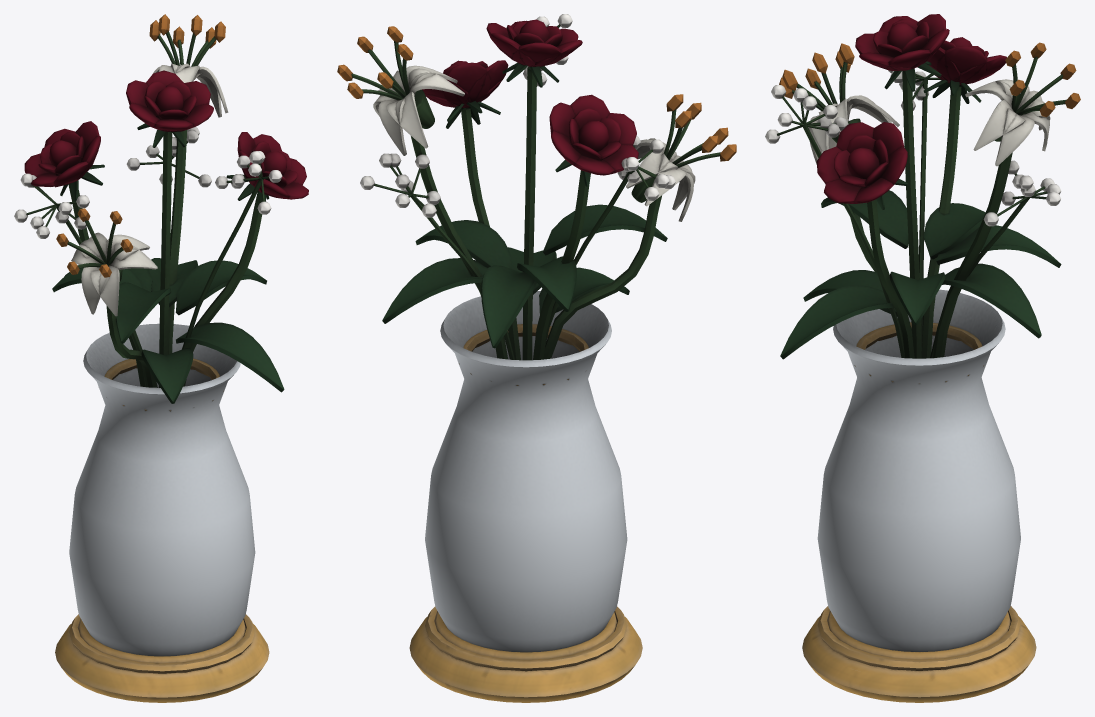
File: FlowerVase.fbx
3 renders of one model, left to right at view 1: azimuth 30°, elevation 25°; view 2: azimuth 150°, elevation 25°; view 3: azimuth 270°, elevation 25°, orthographic. The views are drawn at different scales.
Parts seen in each view (by area): view 1: FlowerVase_Main, FlowerVase_Glass; view 2: FlowerVase_Main, FlowerVase_Glass; view 3: FlowerVase_Main, FlowerVase_Glass.
Boxes of the visible parts, x1,y1,x2,y2 form: FlowerVase_Main: (14,14,308,702); FlowerVase_Glass: (69,323,255,656); FlowerVase_Main: (337,14,736,702); FlowerVase_Glass: (425,291,627,652); FlowerVase_Main: (765,14,1080,702); FlowerVase_Glass: (817,289,1020,651).
Bounding box in the file's own units: 109 × 232 × 102.
